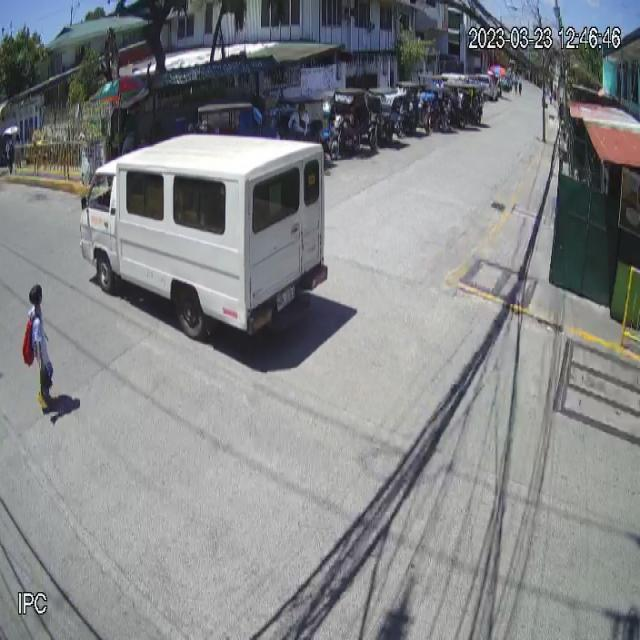Van: (78, 134, 332, 343)
